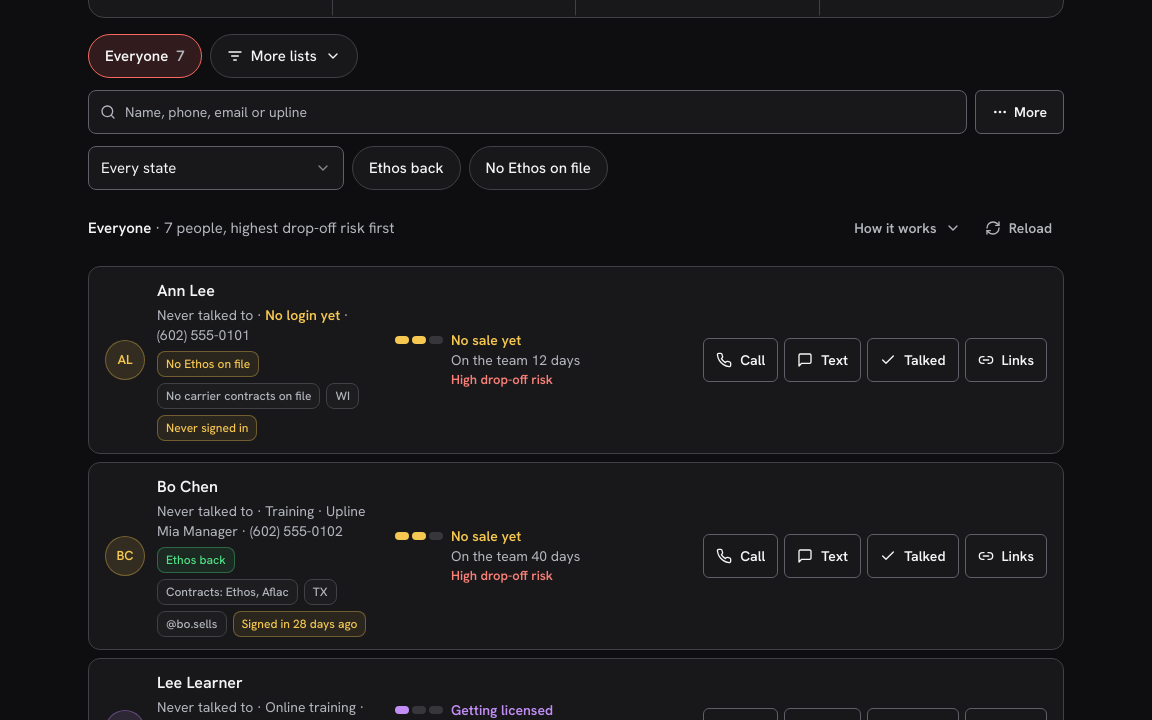
Test: My Team: four numbers, one list › Call dials and opens the person's card; dialing records nothing
(page scrolled)
Expected: the text "Ann Lee" is shown, [157,279,215,303]
Click the link with aria-label "Call Ann Lee: help them get a first sale" at (741, 360), box [703,338,778,382]
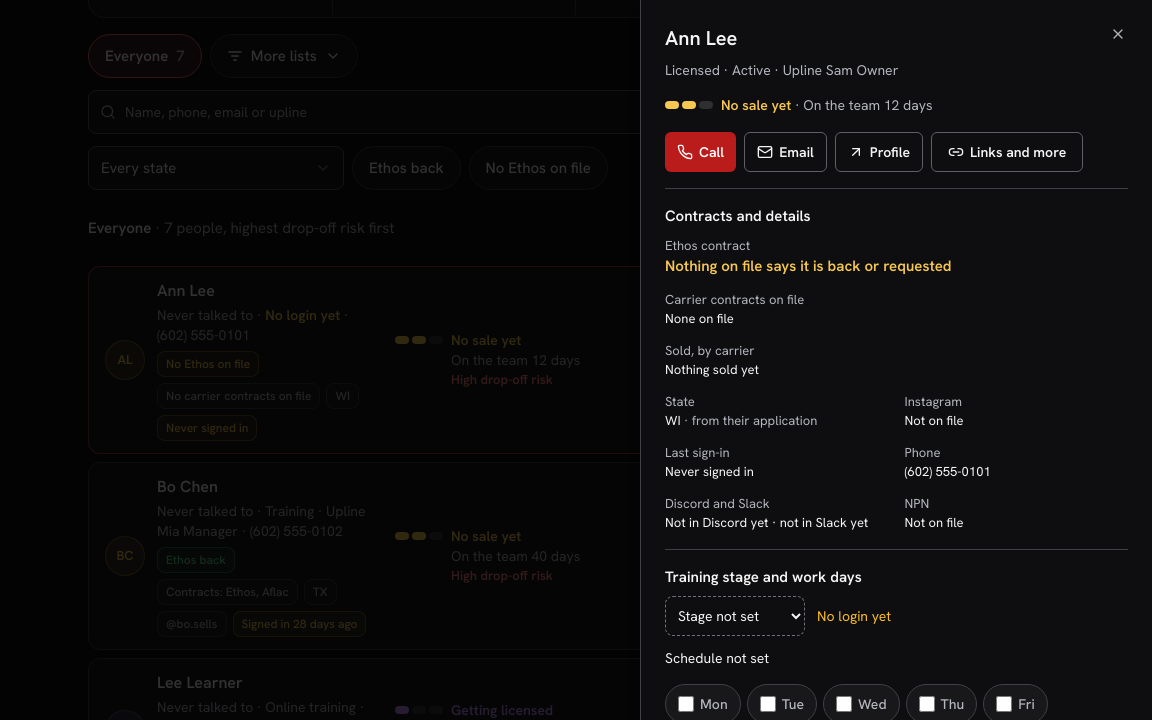
Now the dialog is shown, box [640,0,1151,719]
Now the heading "Ann Lee" is shown, box [665,25,737,51]
Now the text "No sale yet" is shown, box [721,96,791,114]
